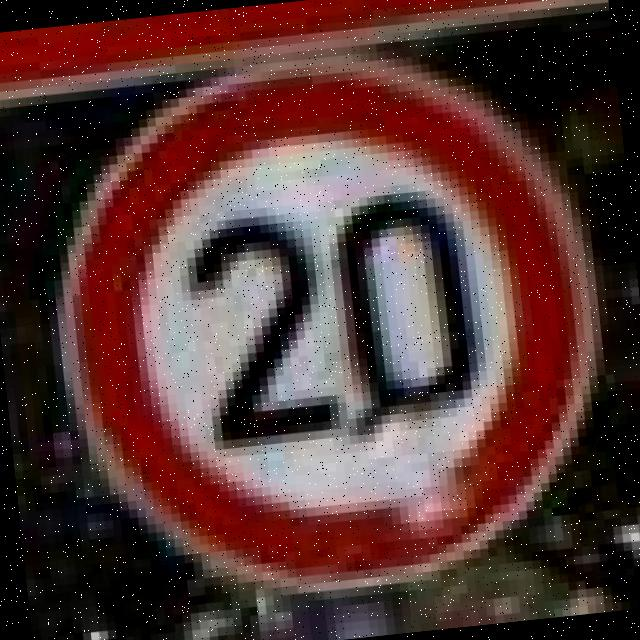Ograniczenie predkosci do 20: (33, 32, 616, 616)
